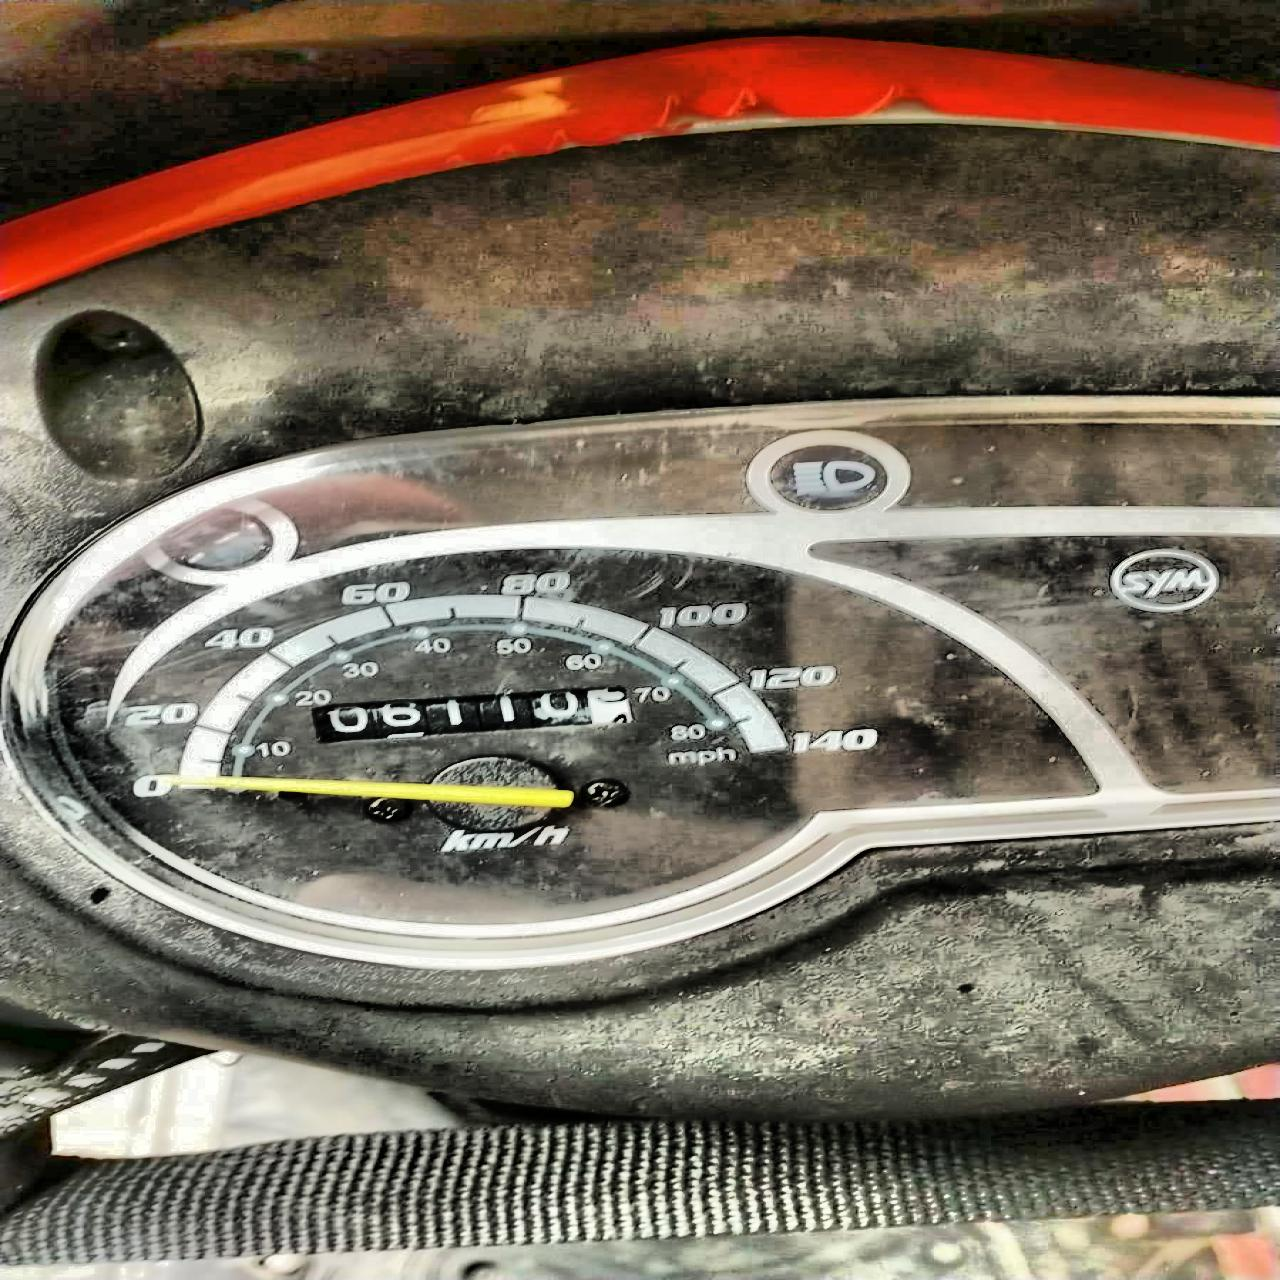0: (535, 686, 581, 725), (324, 704, 368, 734), (313, 687, 333, 705)
1: (437, 692, 466, 731), (490, 688, 518, 727)
3: (586, 684, 630, 709)
6: (374, 696, 426, 729)
odometer: (310, 684, 638, 742)
